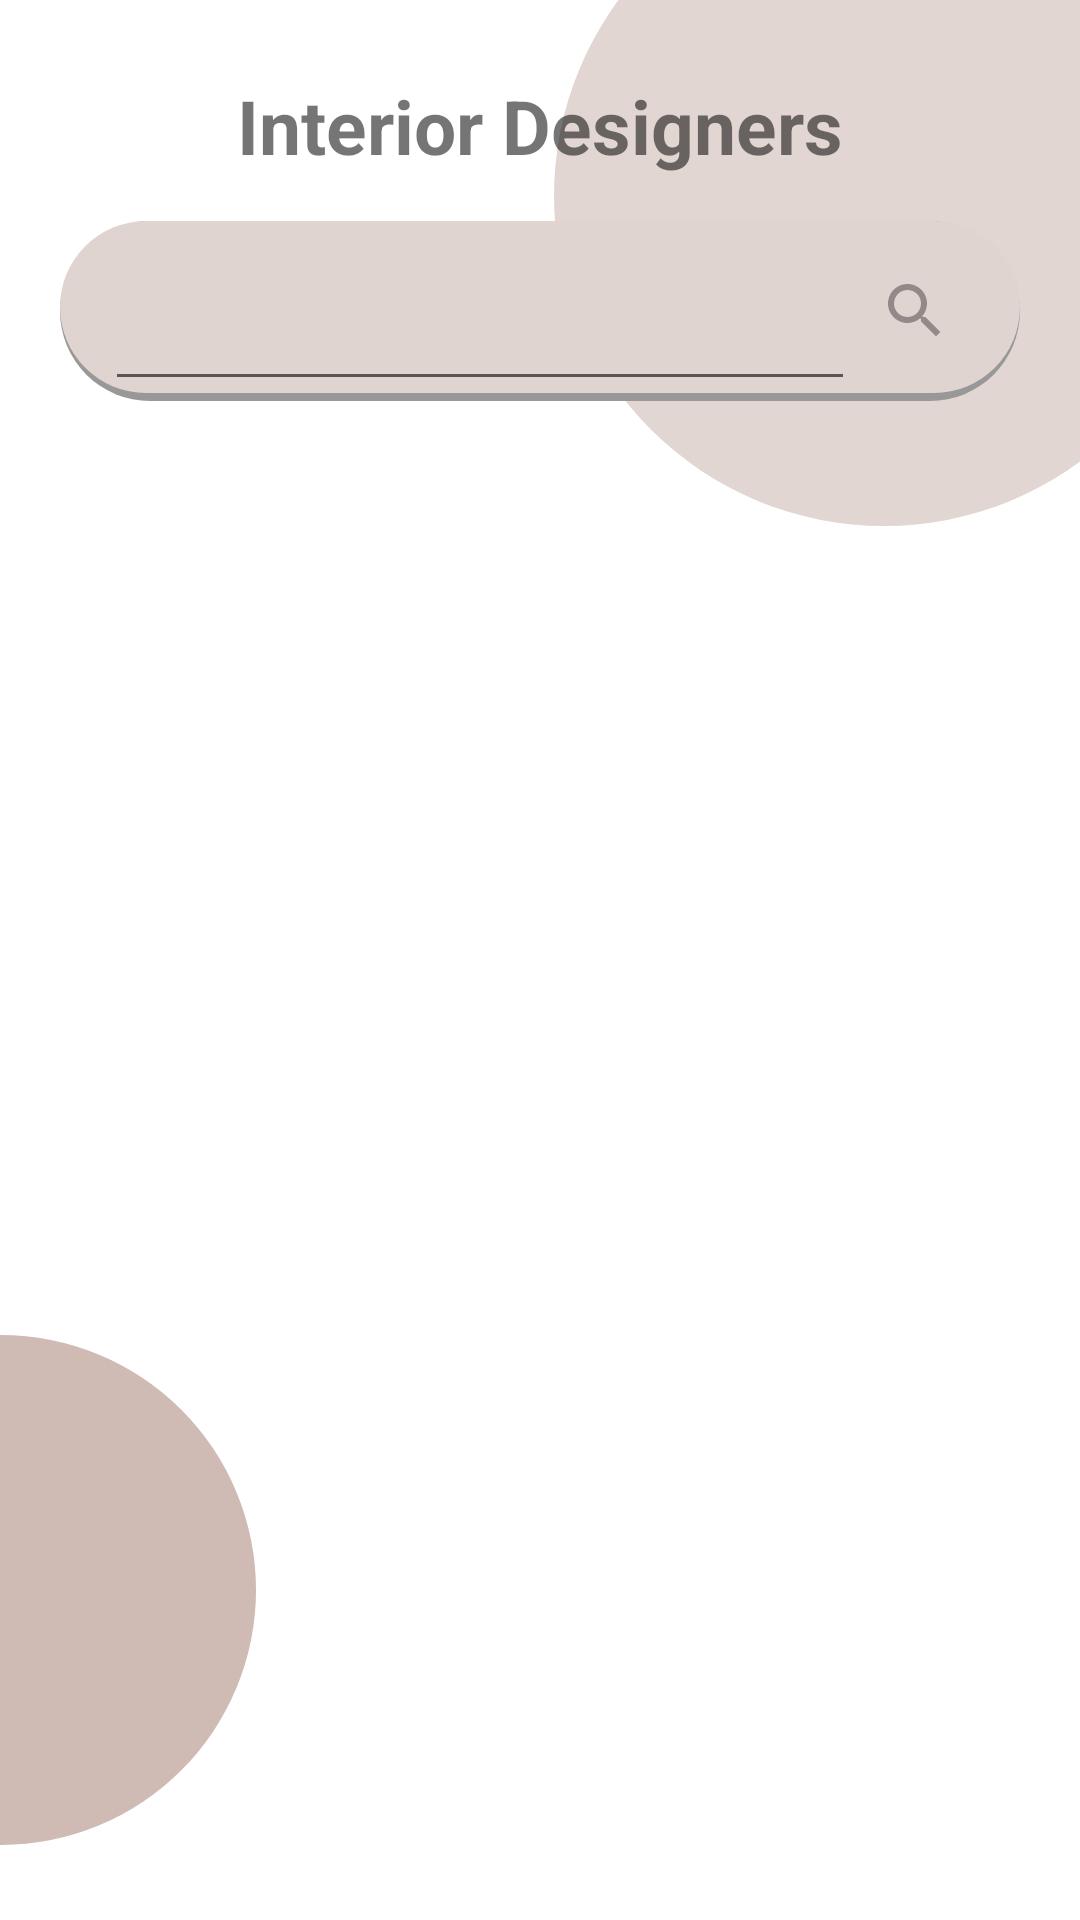

Where to tap for icons on this 1080px x 1920px app screen, as (x=x, y=y):
search: (x=914, y=310)
